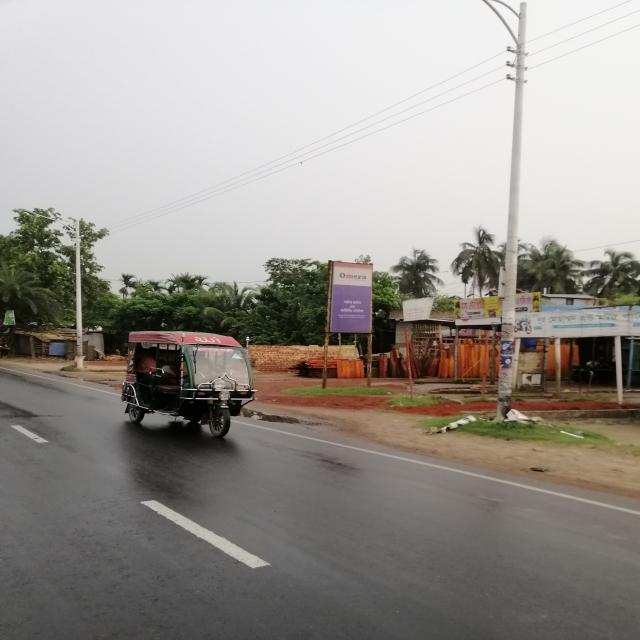Easybike: (122, 329, 259, 444)
